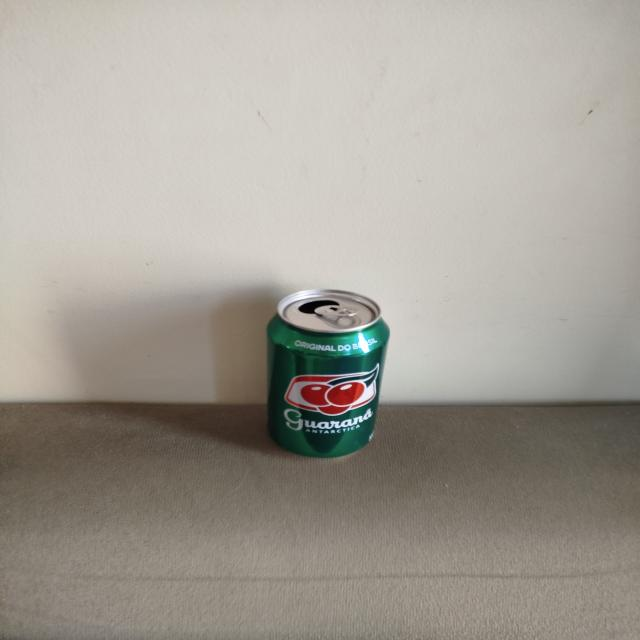Guarana: (266, 291, 391, 458)
